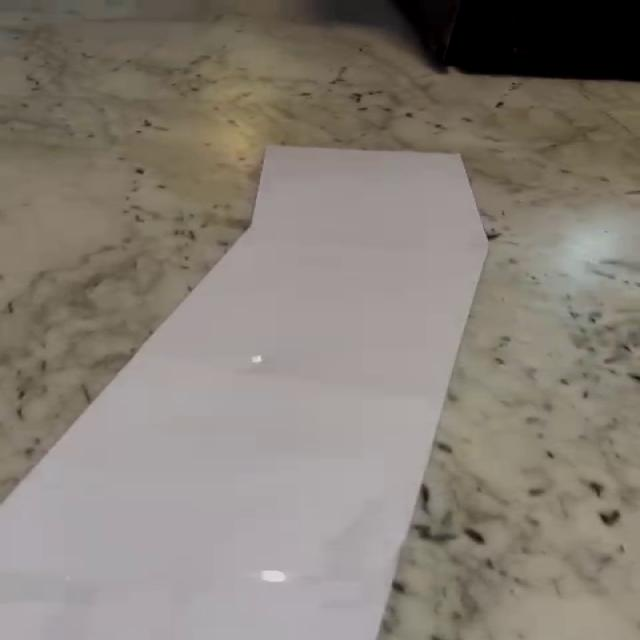road: (3, 146, 487, 640)
